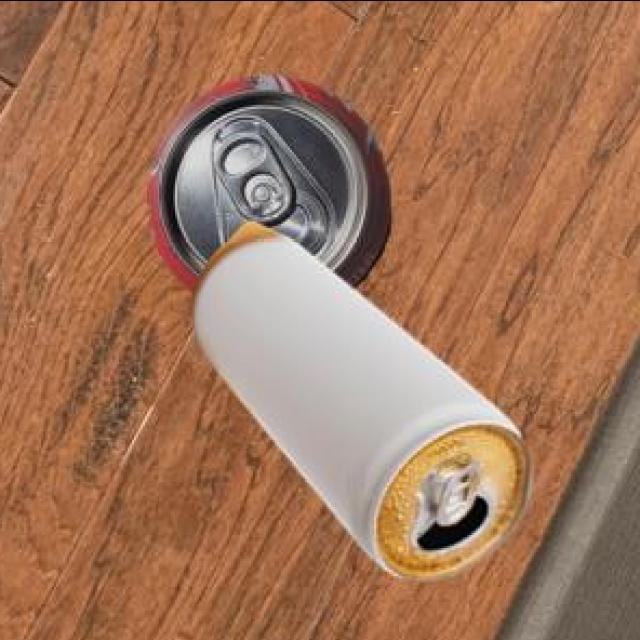logam: (196, 217, 535, 576), (150, 72, 395, 289)
